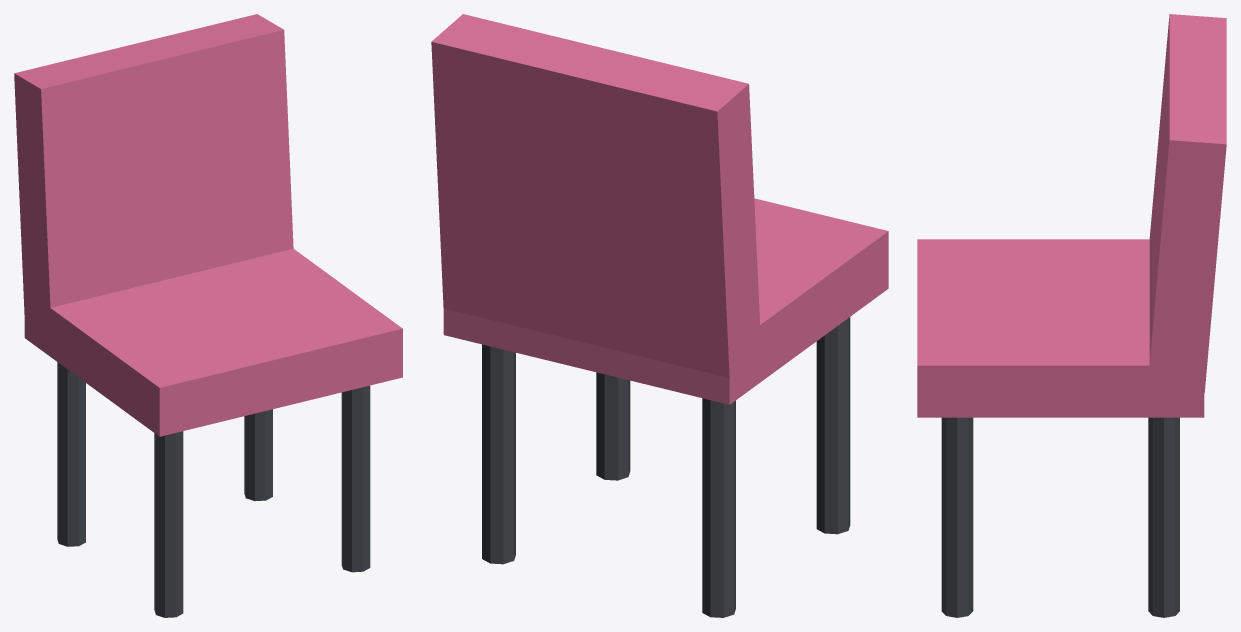
3 renders of one model, left to right at view 1: azimuth 30°, elevation 25°; view 2: azimuth 150°, elevation 25°; view 3: azimuth 270°, elevation 25°, orthographic. The views are drawn at different scales.
Visible parts, largest first — view 1: Back, Seat, Leg.FL, Leg.FR, Leg.BL, Leg.BR; view 2: Back, Seat, Leg.BL, Leg.BR, Leg.FL, Leg.FR; view 3: Seat, Back, Leg.FR, Leg.BR.
Boxes of the visible parts, bbox=[...] form: Back: bbox=[14, 14, 293, 330]; Seat: bbox=[24, 248, 402, 436]; Leg.FL: bbox=[154, 431, 183, 617]; Leg.FR: bbox=[341, 385, 370, 572]; Leg.BL: bbox=[57, 362, 85, 546]; Leg.BR: bbox=[244, 409, 272, 501]; Back: bbox=[431, 14, 761, 377]; Seat: bbox=[443, 198, 888, 404]; Leg.BL: bbox=[702, 398, 735, 617]; Leg.BR: bbox=[482, 344, 515, 564]; Leg.FL: bbox=[816, 317, 850, 534]; Leg.FR: bbox=[596, 372, 630, 480]; Seat: bbox=[917, 239, 1204, 417]; Back: bbox=[1147, 14, 1226, 392]; Leg.FR: bbox=[941, 417, 973, 617]; Leg.BR: bbox=[1148, 417, 1179, 617].
Bounding box in the file's own units: 0.52 × 0.9332 × 0.539.
